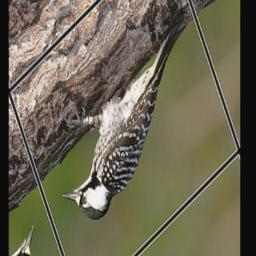Woodpecker: (41, 0, 216, 244)
